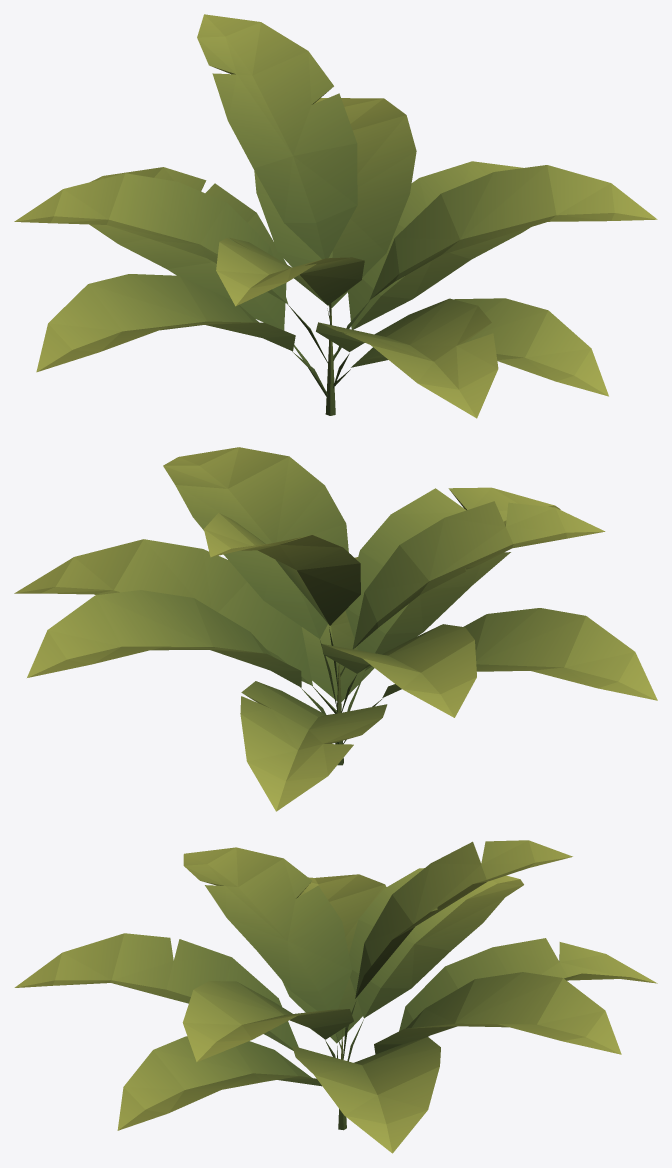
File: Summer_Plant_01.glb
3 views of the same model, one above another, from view 1: azimuth 30°, elevation 25°; view 2: azimuth 150°, elevation 25°; view 3: azimuth 270°, elevation 25° (orthographic). The views are drawn at different scales.
Visible parts, largest first — view 1: Summer_Plant_01_LOD0; view 2: Summer_Plant_01_LOD0; view 3: Summer_Plant_01_LOD0.
Part boxes in pixels (box(x1,y1,x2,y2)): Summer_Plant_01_LOD0: box(14, 14, 657, 418); Summer_Plant_01_LOD0: box(14, 447, 657, 811); Summer_Plant_01_LOD0: box(14, 840, 657, 1153).
Size of what is drawn, in the model's own units: 1.69 by 0.8081 by 1.71.
1 material, 1 textured.
